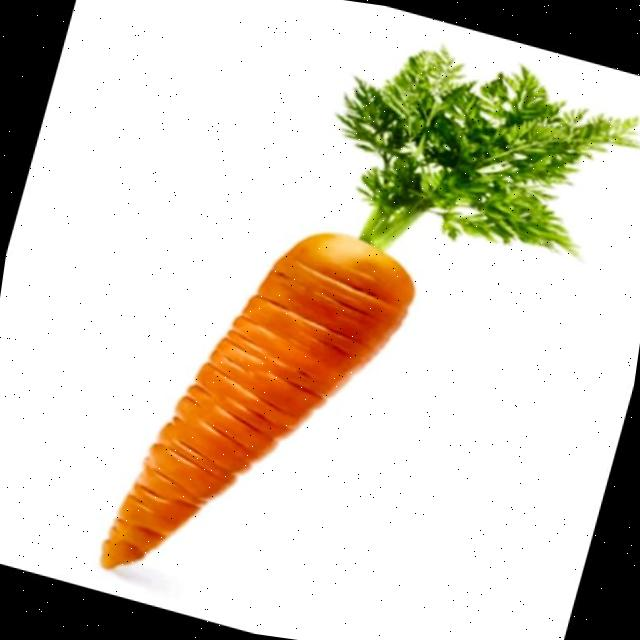carrot: (101, 48, 636, 568)
